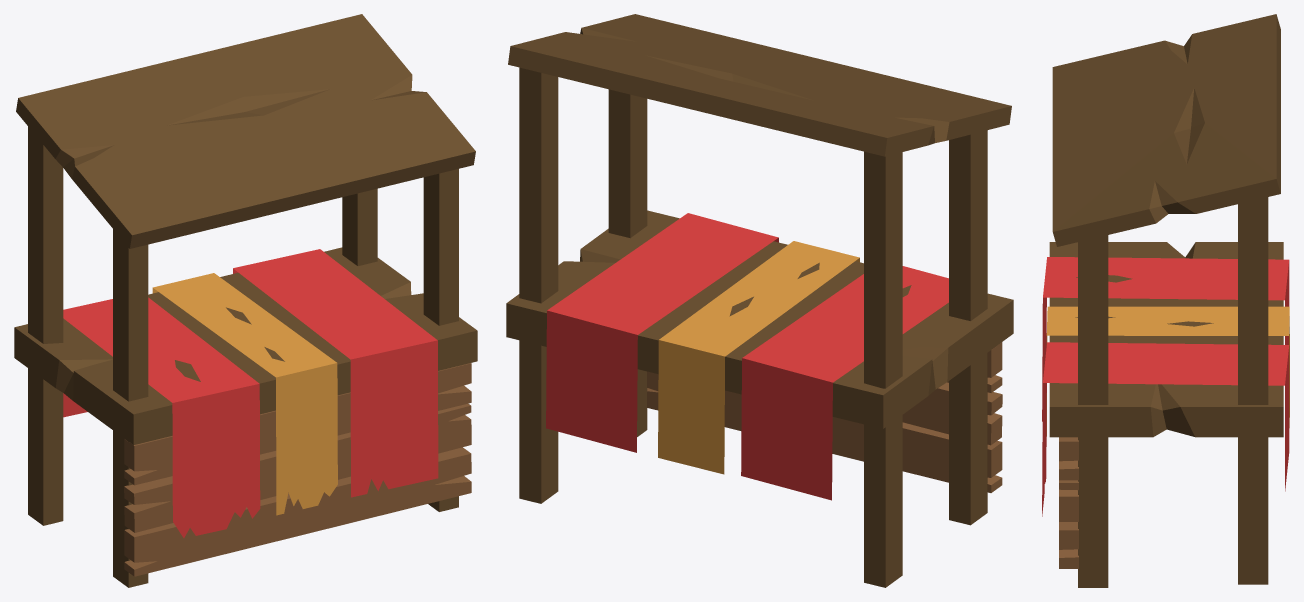
Rendered from MerchantStand.fbx.
3 views of the same model, side by side, from view 1: azimuth 30°, elevation 25°; view 2: azimuth 150°, elevation 25°; view 3: azimuth 270°, elevation 25° (orthographic). The views are drawn at different scales.
Parts seen in each view (by area): view 1: RedCloth, Plane.000, Cube.008, Plane.001; view 2: RedCloth, Plane.000, Plane.001, Cube.008; view 3: RedCloth, Plane.000, Plane.001, Cube.008.
Part boxes in pixels (left/top/right/bottom): RedCloth: left=14, top=14, right=477, bottom=587; Plane.000: left=63, top=249, right=438, bottom=537; Cube.008: left=124, top=363, right=471, bottom=576; Plane.001: left=152, top=273, right=337, bottom=515; RedCloth: left=506, top=14, right=1013, bottom=587; Plane.000: left=546, top=213, right=948, bottom=500; Plane.001: left=658, top=241, right=859, bottom=474; Cube.008: left=647, top=342, right=1002, bottom=492; RedCloth: left=1049, top=14, right=1283, bottom=587; Plane.000: left=1042, top=257, right=1289, bottom=516; Plane.001: left=1046, top=306, right=1289, bottom=436; Cube.008: left=1059, top=437, right=1078, bottom=568.
Size of the model in its own units: 587 by 682 by 373.
